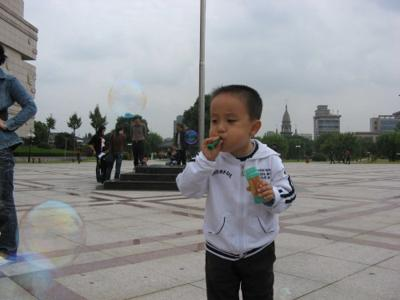person: (176, 86, 297, 300)
